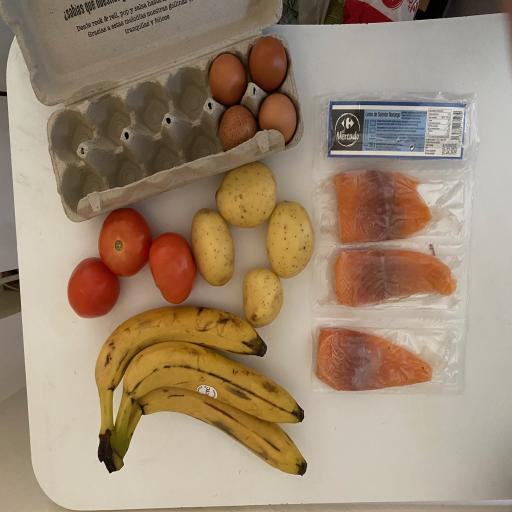banana: (90, 299, 270, 472), (97, 338, 309, 483), (106, 377, 318, 480)
egg: (245, 29, 292, 93), (254, 90, 300, 146), (214, 102, 260, 158), (207, 46, 248, 108)
potato: (213, 159, 279, 232), (264, 195, 317, 281), (189, 203, 237, 293), (241, 265, 285, 332)
salmon: (312, 322, 439, 395), (331, 242, 460, 309), (332, 166, 434, 246)
tomato: (96, 202, 154, 280), (148, 228, 199, 307), (64, 253, 122, 321)
